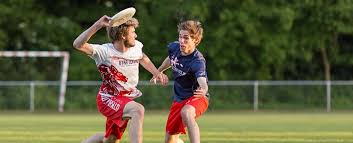disc: (107, 7, 141, 29)
